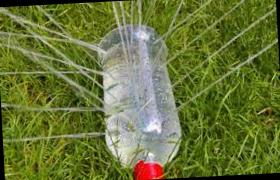plastic: (72, 15, 193, 180)
